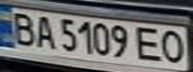0: (90, 20, 112, 56)
1: (75, 19, 93, 55)
5: (54, 16, 78, 53)
9: (109, 22, 133, 60)
A: (30, 12, 57, 50)
B: (6, 10, 39, 47)
E: (133, 25, 166, 63)
O: (157, 28, 190, 64)
